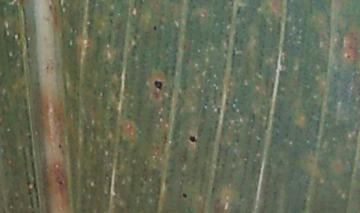tarspot: (150, 79, 166, 90), (188, 134, 200, 144), (151, 24, 159, 32), (180, 191, 189, 198), (346, 54, 351, 60), (57, 144, 63, 148)
